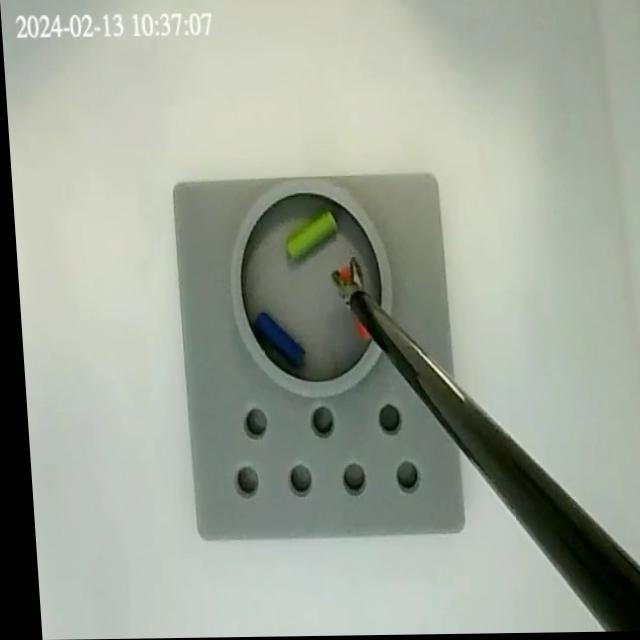EmptyHole: (370, 401, 398, 439), (333, 461, 361, 497), (237, 405, 264, 440), (280, 463, 307, 498), (303, 405, 331, 438), (386, 462, 414, 495), (228, 463, 253, 497)
